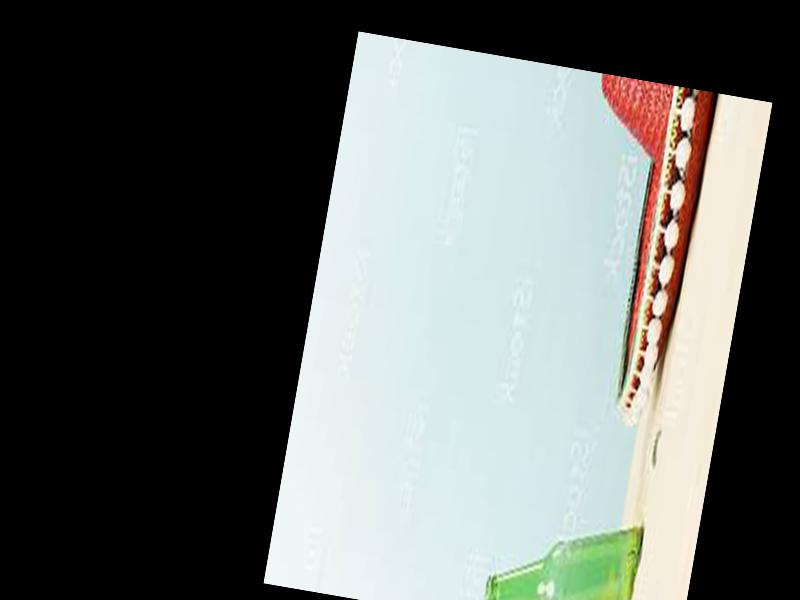Beer: (481, 500, 648, 600)
